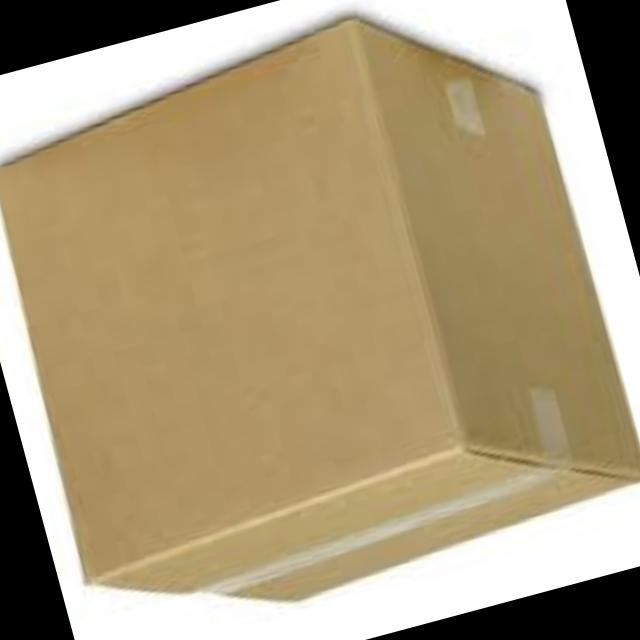cardboard paper: (0, 24, 640, 603)
